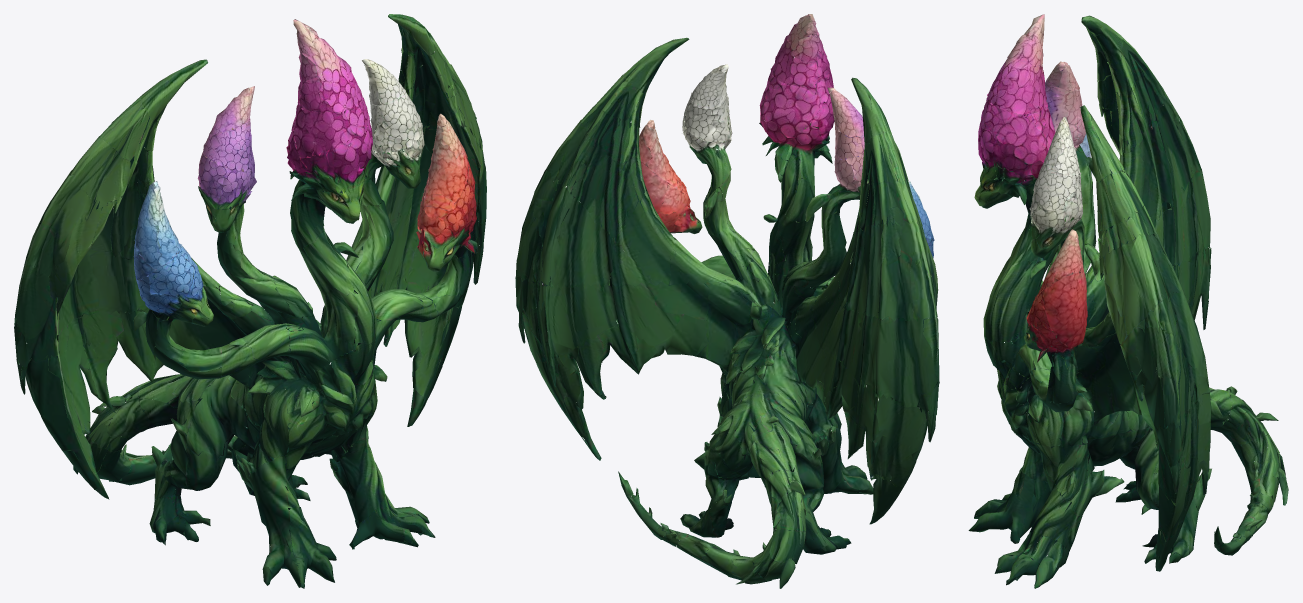
The picture shows the model from 3 angles, left to right: view 1: azimuth 30°, elevation 25°; view 2: azimuth 150°, elevation 25°; view 3: azimuth 270°, elevation 25°; orthographic projection. The views are drawn at different scales.
Parts seen in each view (by area): view 1: Mesh_0; view 2: Mesh_0; view 3: Mesh_0.
Part boxes in pixels (x1,y1,x2,y2): Mesh_0: (14, 14, 486, 588); Mesh_0: (515, 14, 939, 588); Mesh_0: (968, 14, 1288, 588).
Bounding box in the file's own units: 1.74 × 1.9 × 1.07.
Materials: 1 (1 with a texture image).
